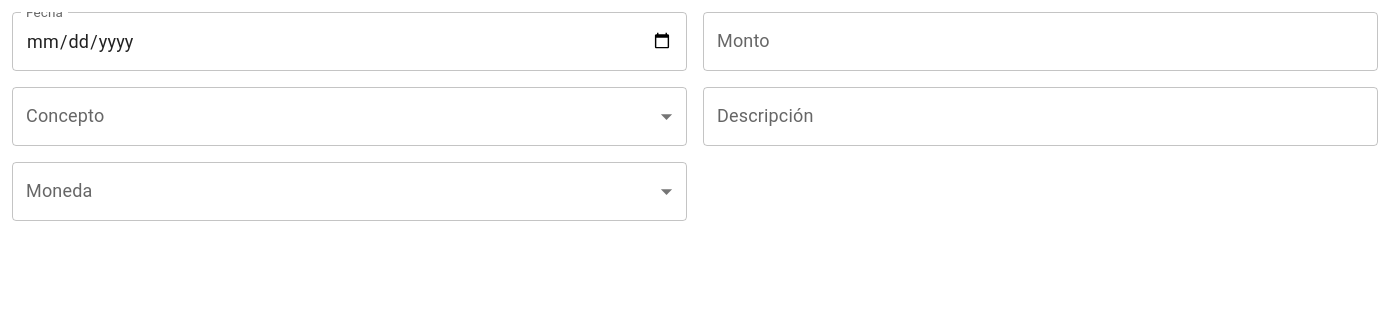
Test: PaymentForm › fetch con errores: utilidades y comisión fallan; muestra texto de 'No hay comisión...' y render de servicio vacío
Click the dropdown named "Concepto" next to "Concepto".
click(350, 116)  # box 12,87 -> 687,146
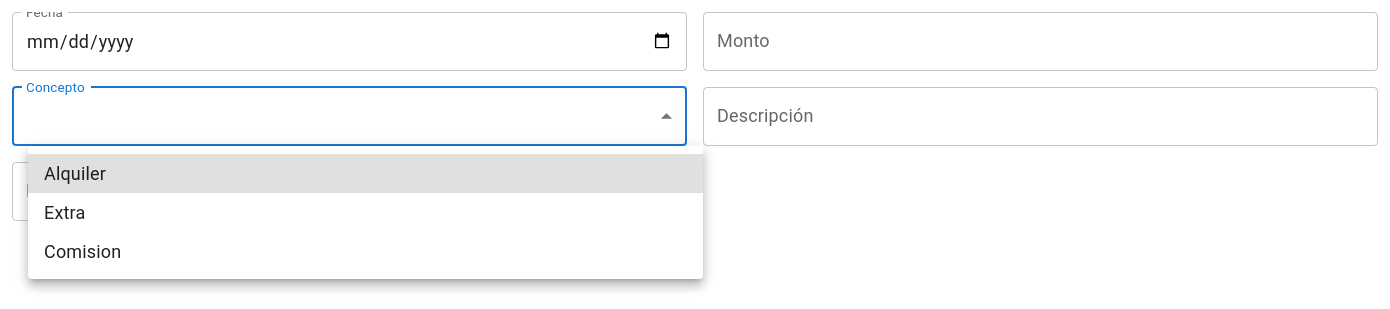
Click the option "Comision".
click(83, 252)  # box 44,241 -> 121,262
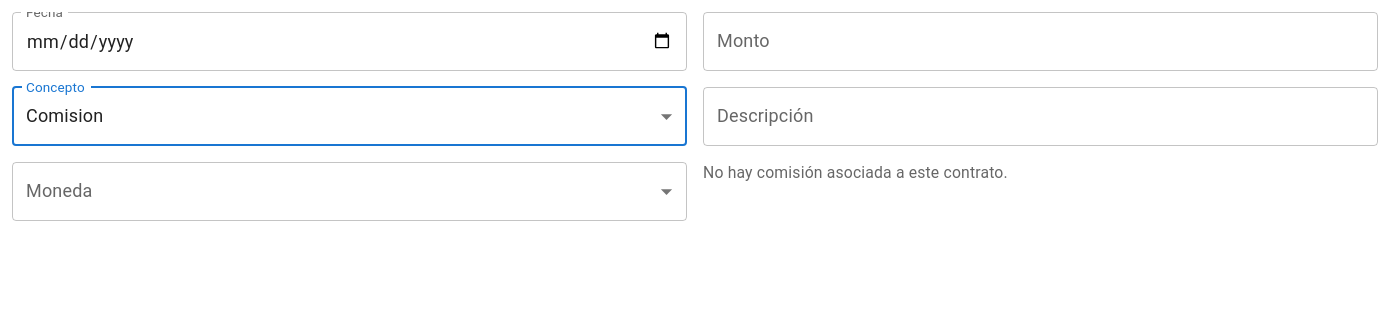
Now the text "No hay comisión asociada a este contrato." is shown, box 703,163 -> 1008,182
Click the dropdown named "Concepto".
click(65, 116)  # box 26,105 -> 103,126
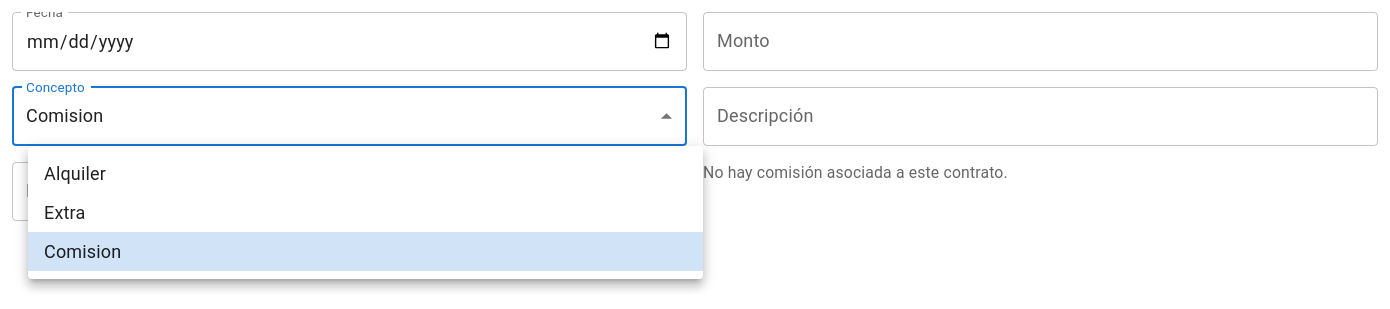
Click the option "Extra".
click(65, 212)  # box 44,202 -> 85,223
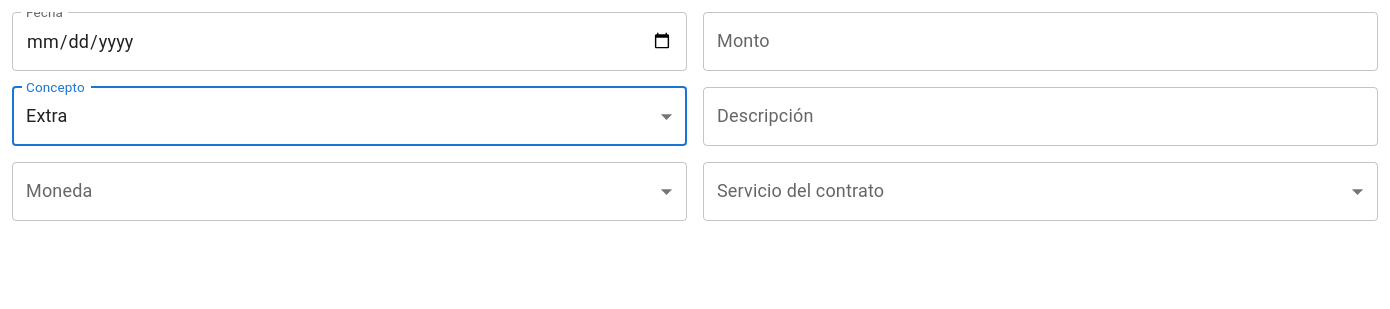
Now the dropdown named "Servicio del contrato" next to "Servicio del contrato" is shown, box 703,162 -> 1378,221
